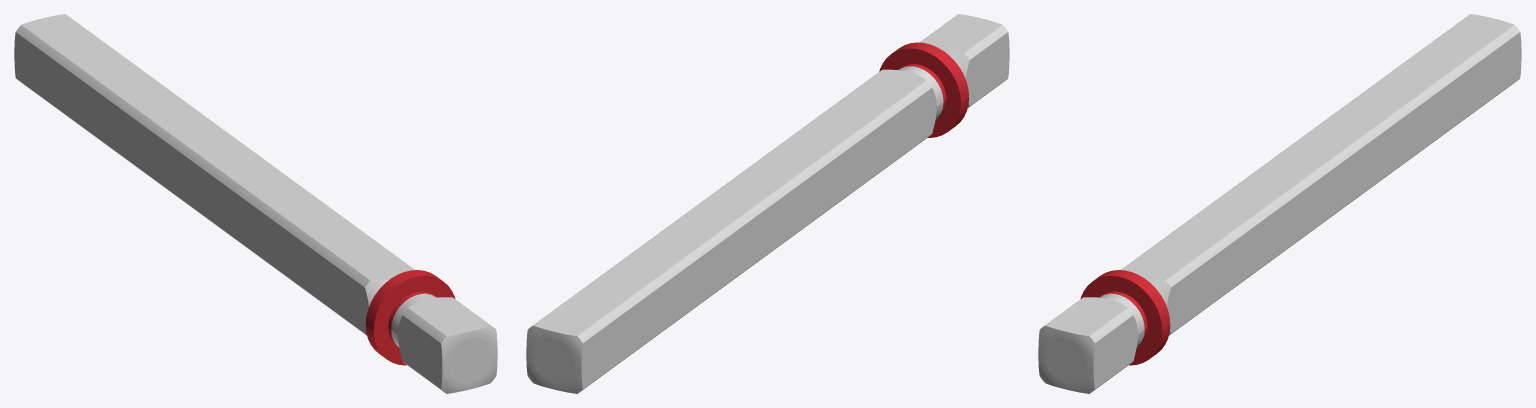
The model's file is 3x Pitch Motor Shaft (228-2500-2236).glb.
3 views of the same model, side by side, from view 1: azimuth 30°, elevation 25°; view 2: azimuth 150°, elevation 25°; view 3: azimuth 330°, elevation 25° (orthographic).
Visible parts, largest first — view 1: 3x Pitch Motor Shaft (228-2500-2236); view 2: 3x Pitch Motor Shaft (228-2500-2236); view 3: 3x Pitch Motor Shaft (228-2500-2236).
Boxes of the visible parts, left/top/right/bottom form: 3x Pitch Motor Shaft (228-2500-2236): left=14, top=14, right=497, bottom=393; 3x Pitch Motor Shaft (228-2500-2236): left=526, top=14, right=1009, bottom=393; 3x Pitch Motor Shaft (228-2500-2236): left=1038, top=14, right=1521, bottom=393.
Bounding box in the file's own units: 0.189 × 0.1883 × 1.68.
